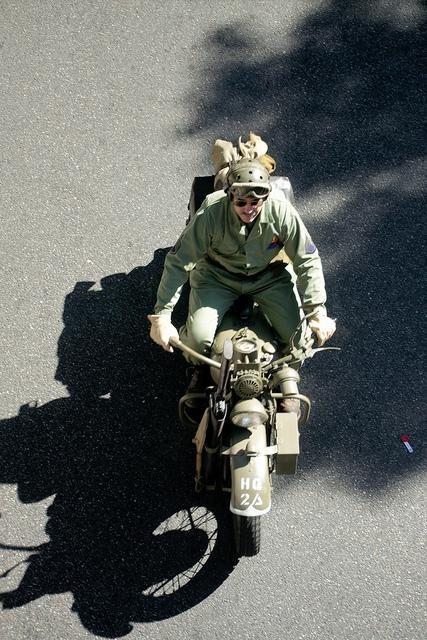motorcycle: (174, 298, 340, 559)
